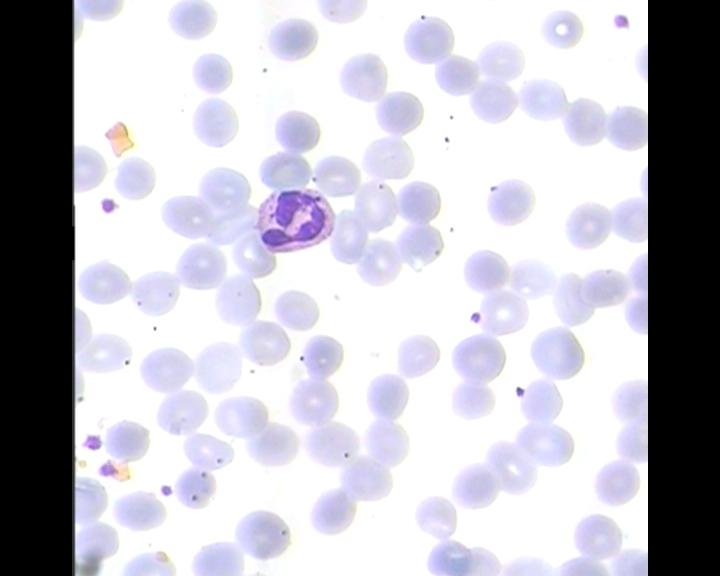neut: (255, 186, 338, 252)
